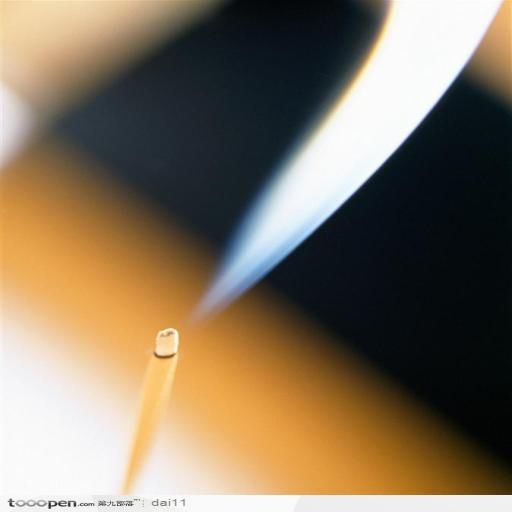fire: (210, 0, 485, 348)
